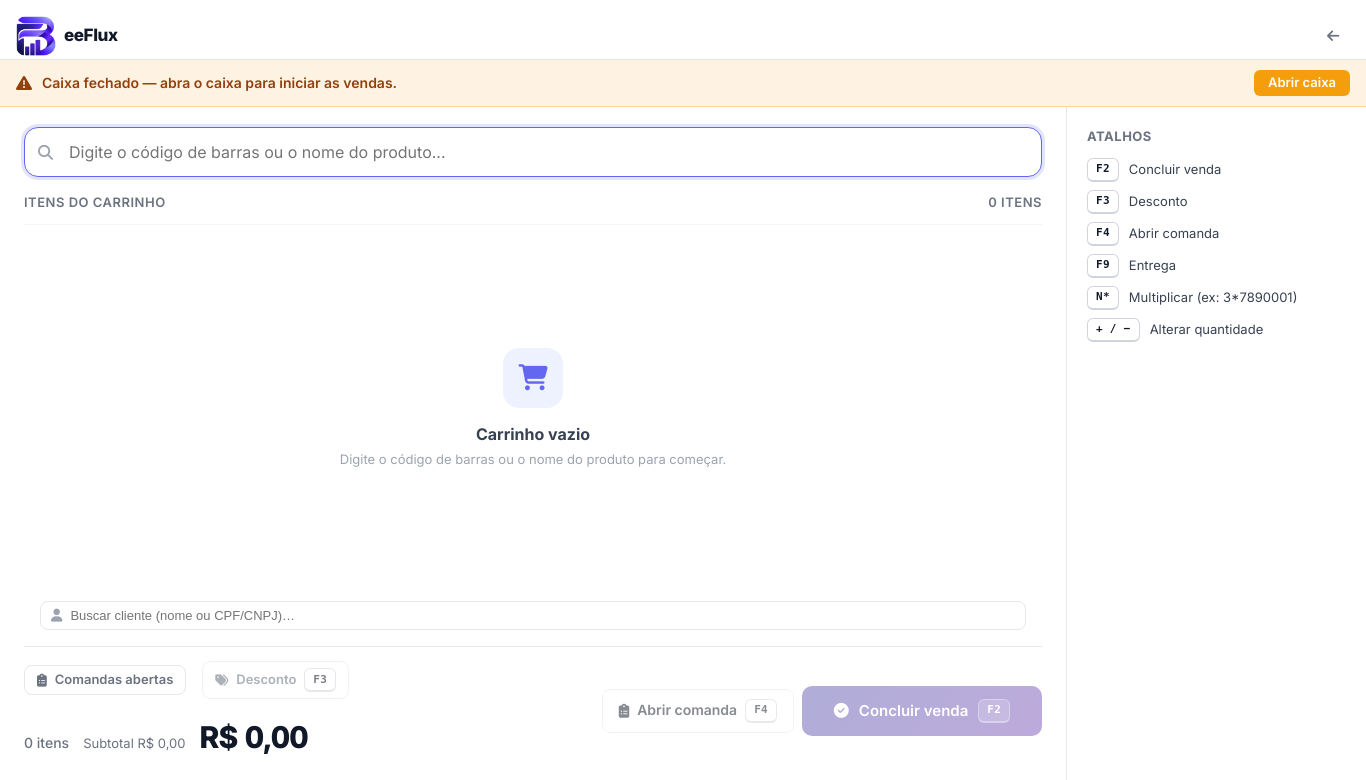
PdvView › permite vender produto sem estoque (estoque pode ficar negativo)
Type "999999999" into the field with placeholder "Digite o código de barras ou o nome do produto...". click: (533, 152)
box: [24,127,1042,177]
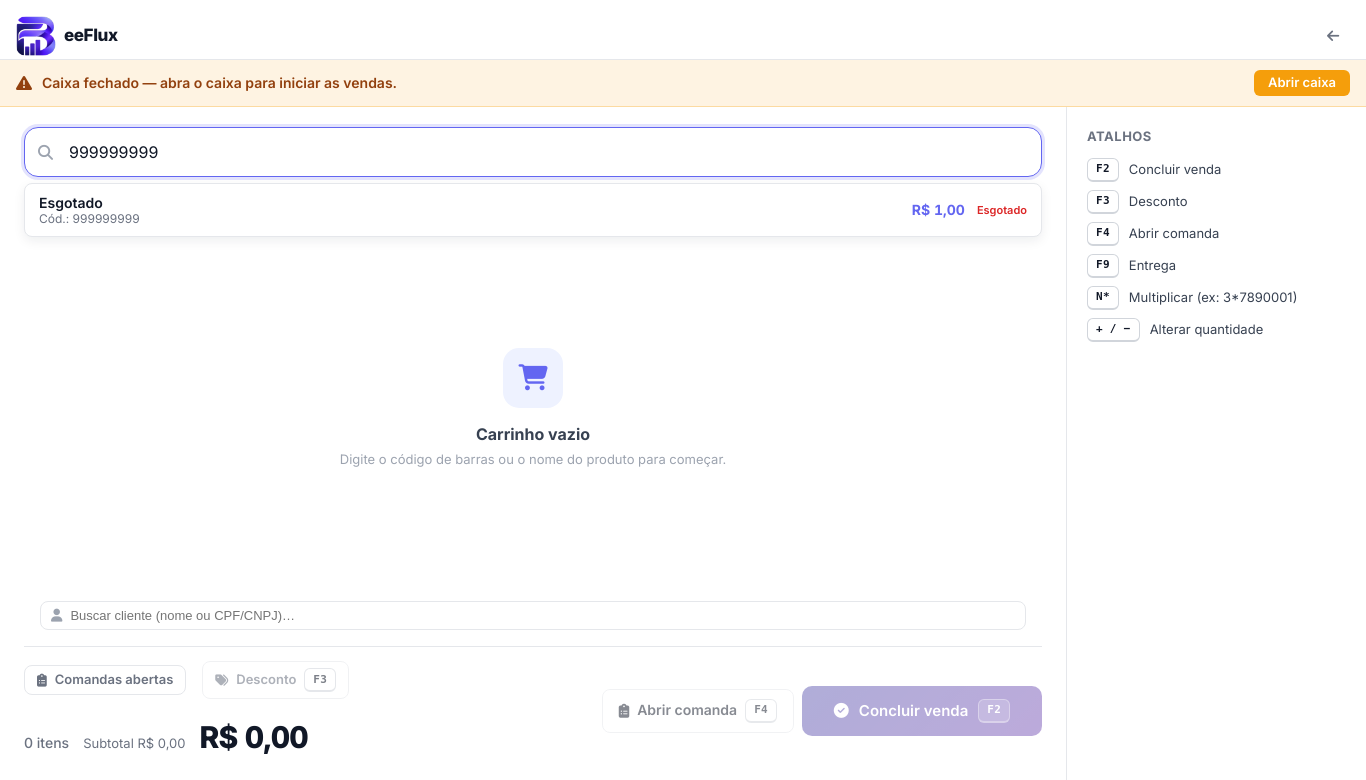
Press Enter in the 1st field, box [24,127,1042,177]
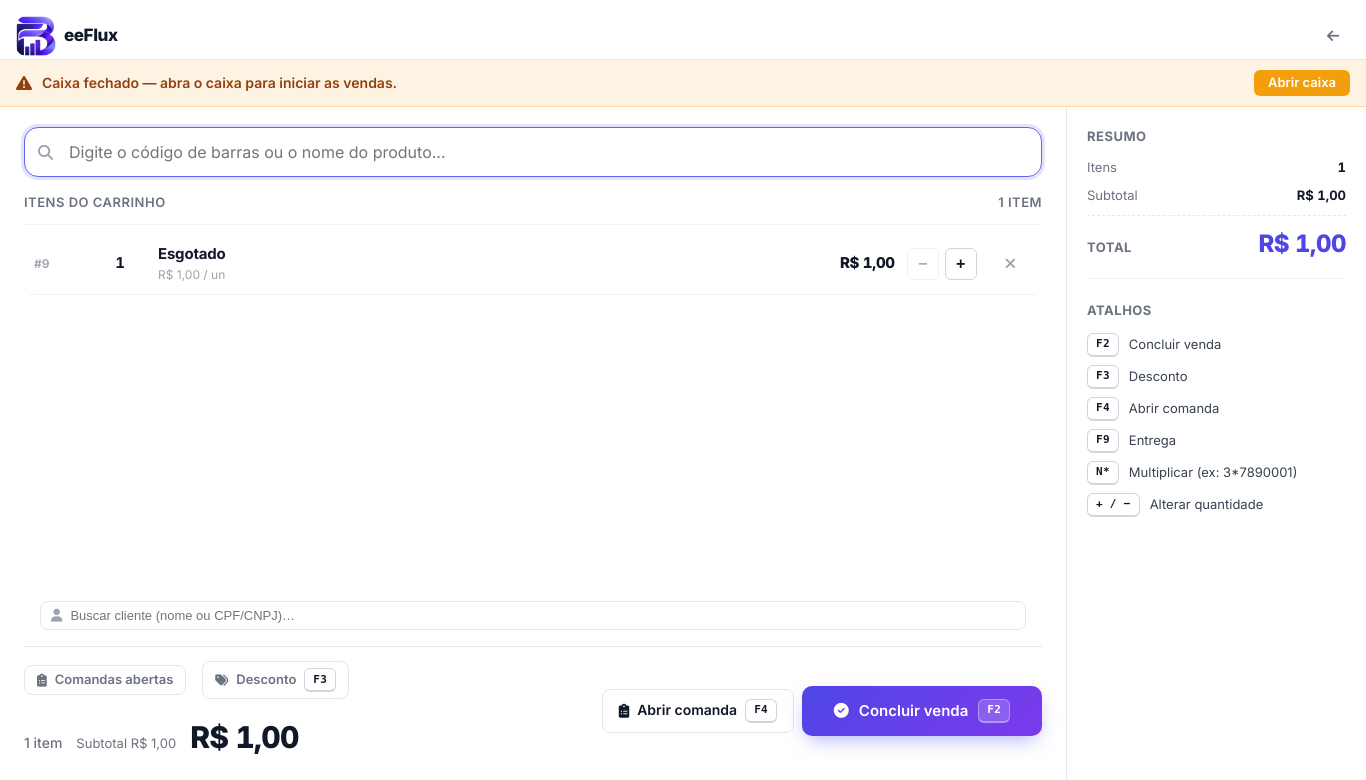
Check: the text with id "cart-count" reads "1 item", box [998,194,1042,210]
# consegue passar do estoque atual (sem teto)
Click the button "+". click: click(961, 264)
box: [945,248,977,280]
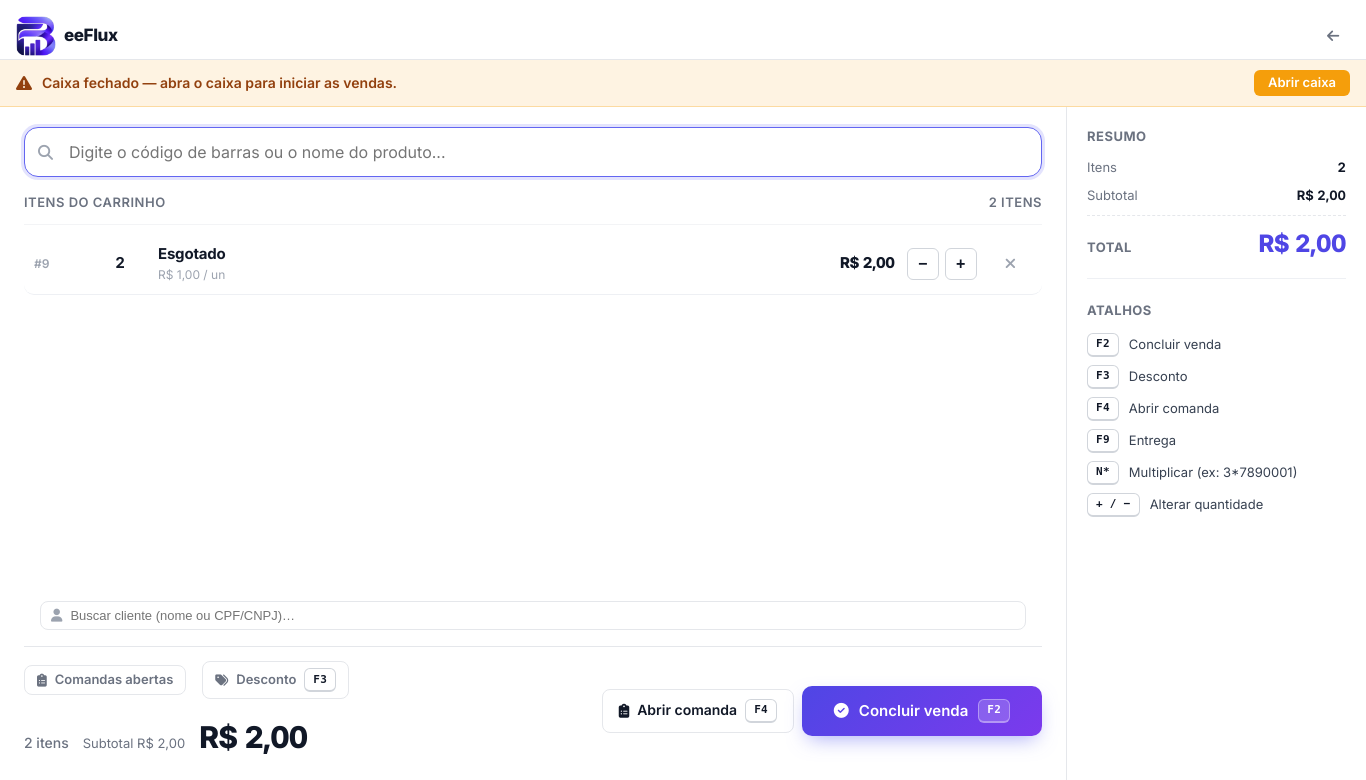
Check: the text with id "cart-count" reads "2 itens", box [989,194,1042,210]
